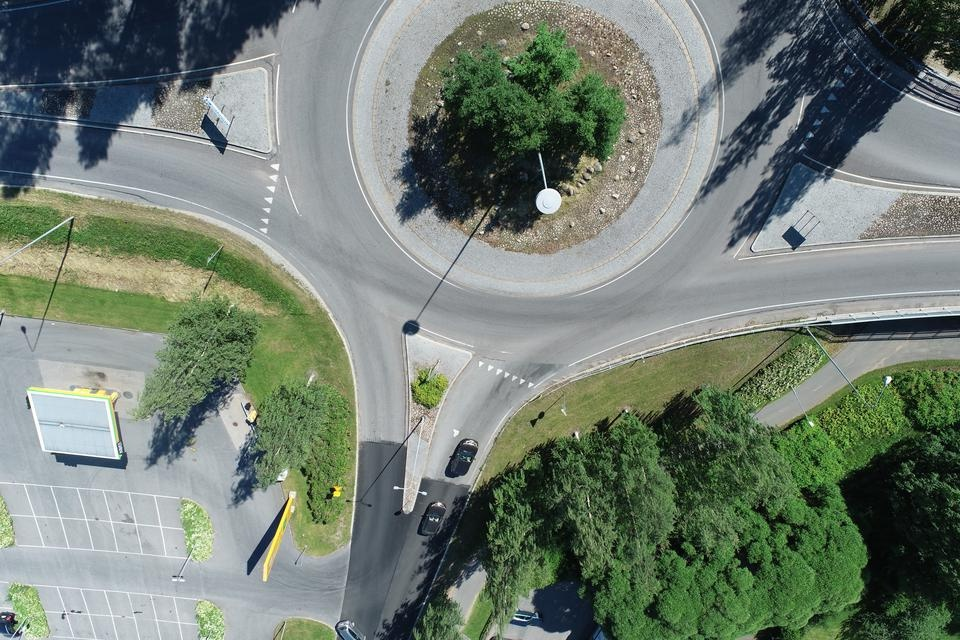roundabout: (209, 0, 822, 413)
